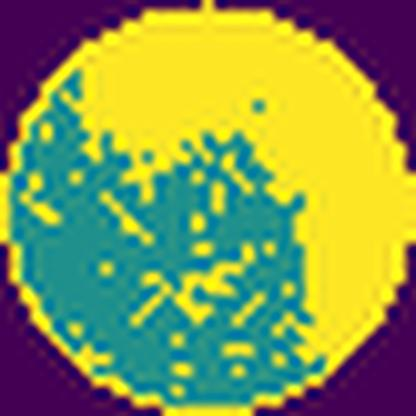Edge-Loc: (74, 0, 414, 374)
